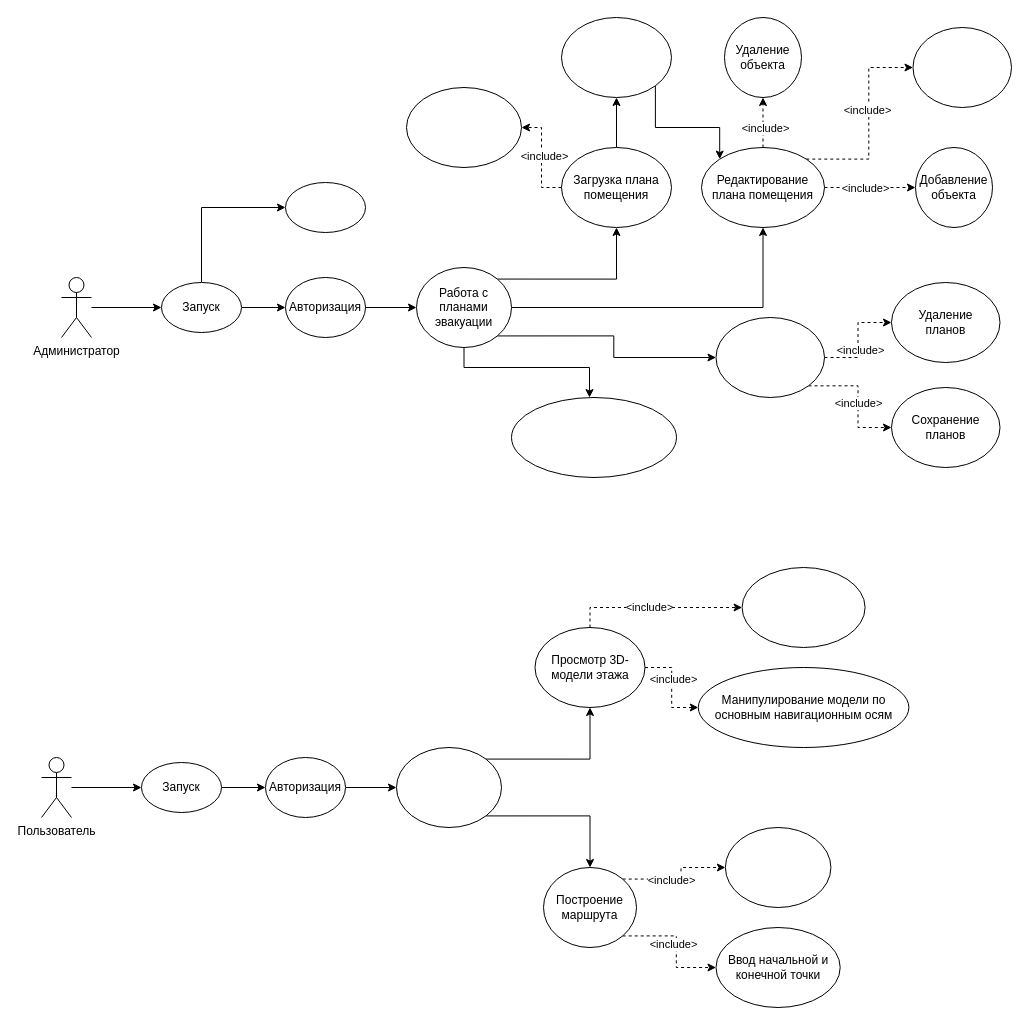
This 1029x1025 diagram has some shape labels left out. Each missing label, with the centre of its shape:
"Визуализация маршрута" goes at (x=777, y=867).
"Корректировка объекта" goes at (x=962, y=67).
"Масштабирование модели" goes at (x=803, y=607).
"Навигация по зданию" goes at (x=449, y=787).
"Построение 3D-плана" goes at (x=616, y=57).
"Регистрация" goes at (x=325, y=207).
"Редактирование узловых точек графа" goes at (x=593, y=437).
"Указание пути к файлу" goes at (x=464, y=127).
"Управление планами" goes at (x=769, y=357).
